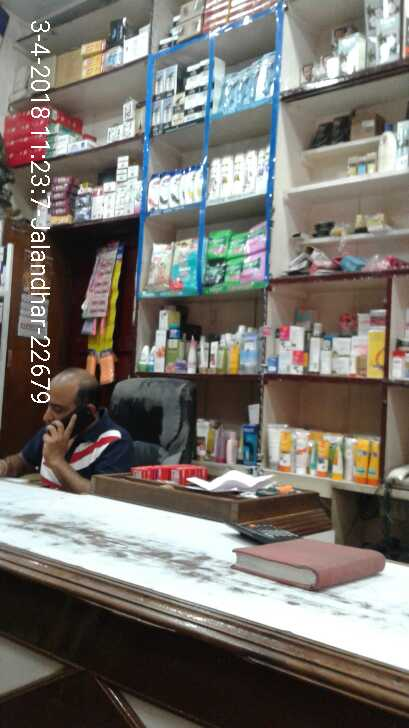venus: (241, 58, 260, 101), (219, 72, 240, 107), (265, 53, 273, 92)
